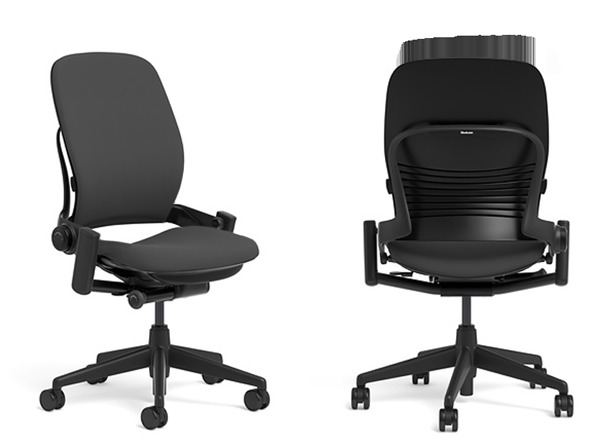chairs: (39, 48, 272, 431), (350, 59, 575, 432)
